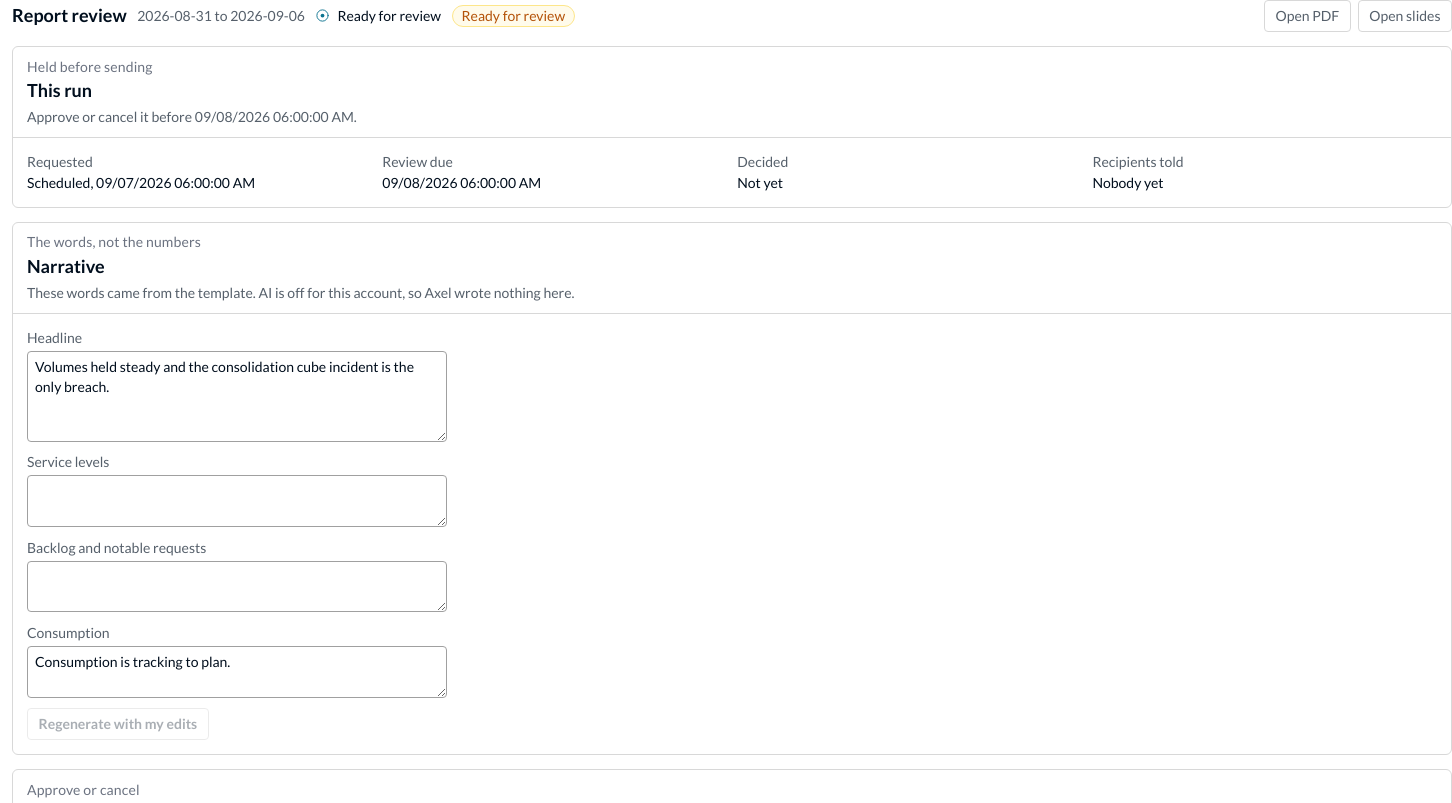
Test: ReportRunReview › words a refusal of the narrative edit and regenerates nothing after it
Note: The panel's own box, not the section panel of the same name below it.
Type "The backlog is flat." into the text box labelled "Backlog and notable requests" at (237, 587), box [27,561,447,612]
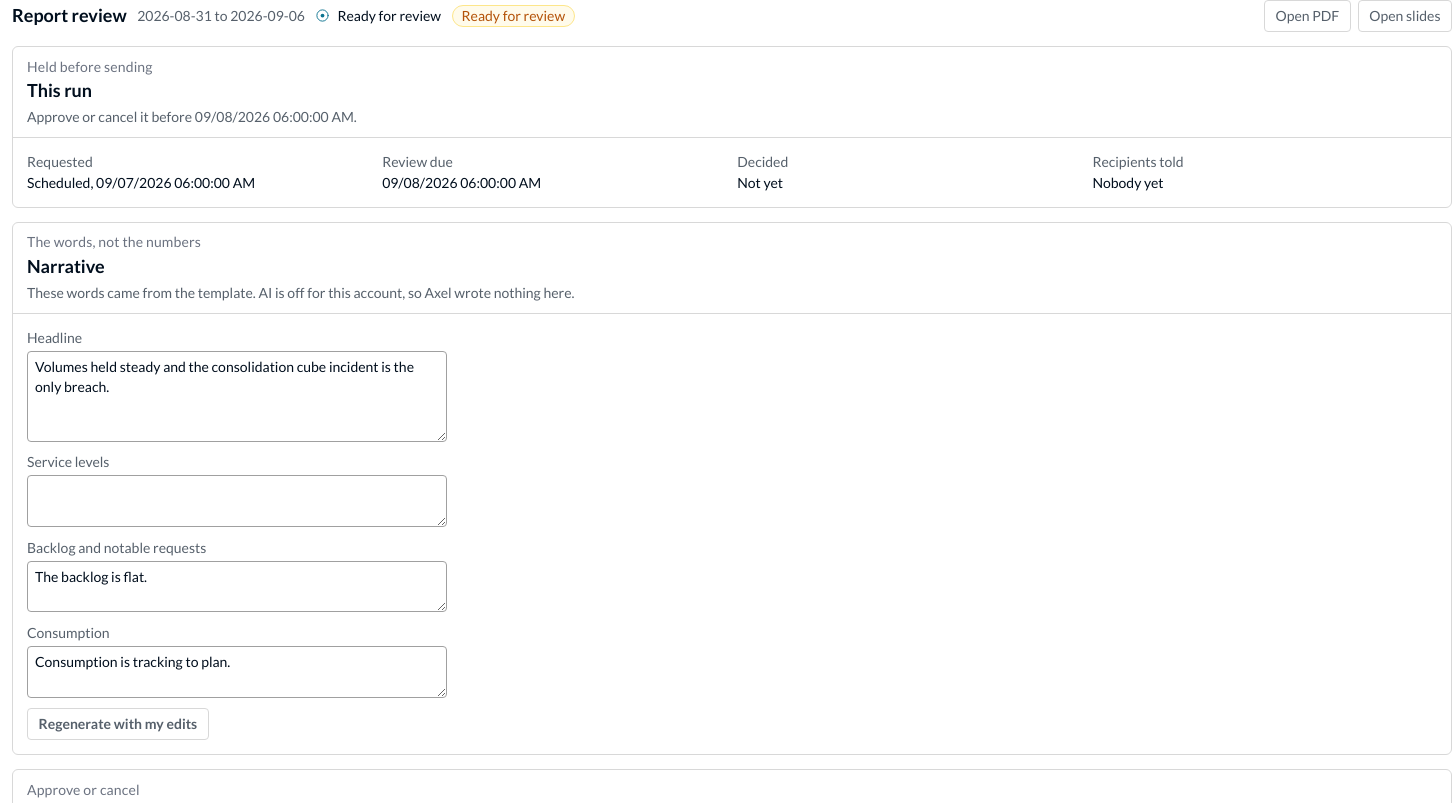
Click the button "Regenerate with my edits" at (118, 724), box [27,708,209,740]
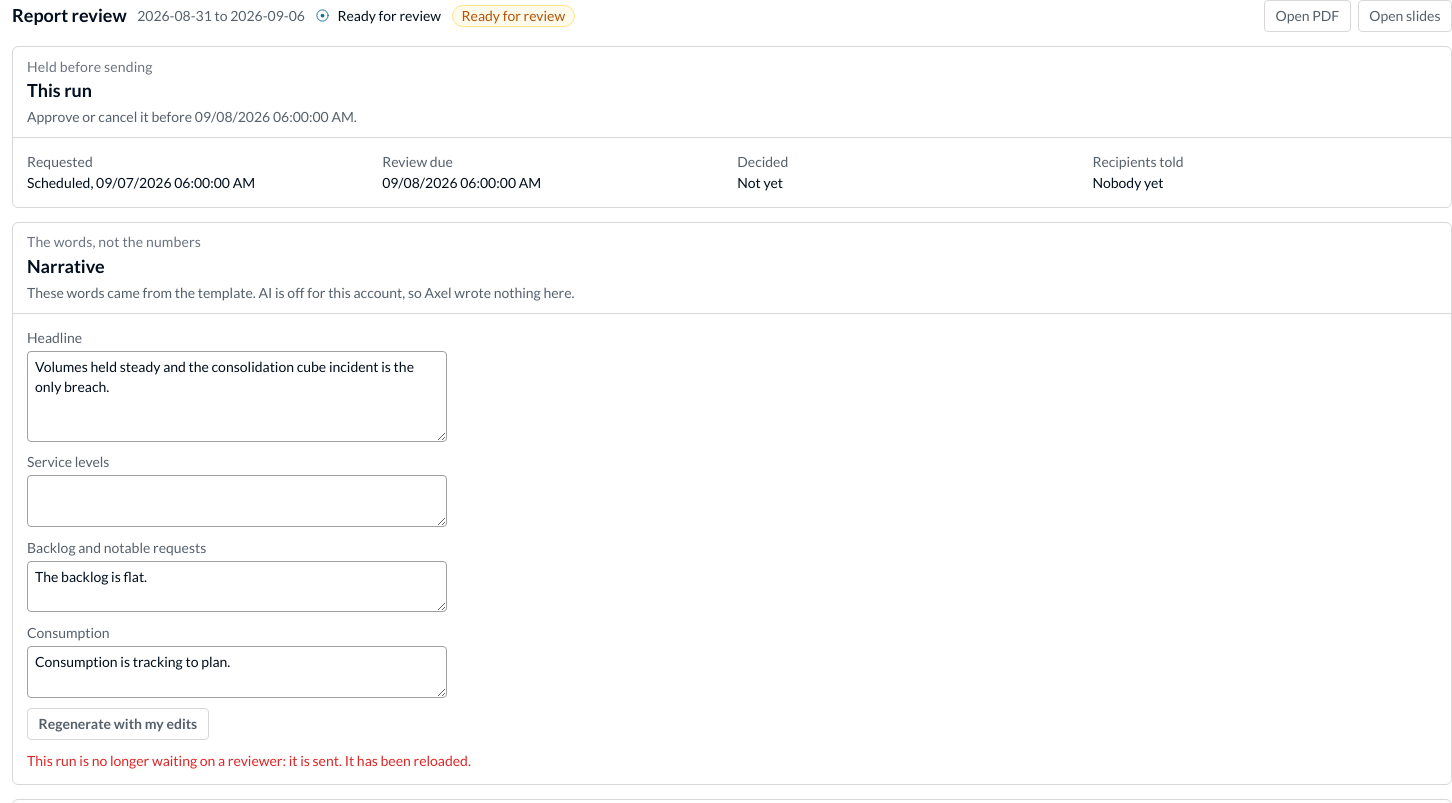
Now the message reads "This run is no longer waiting on a reviewer: it is sent. It has been reloaded.", box [27,752,471,769]
